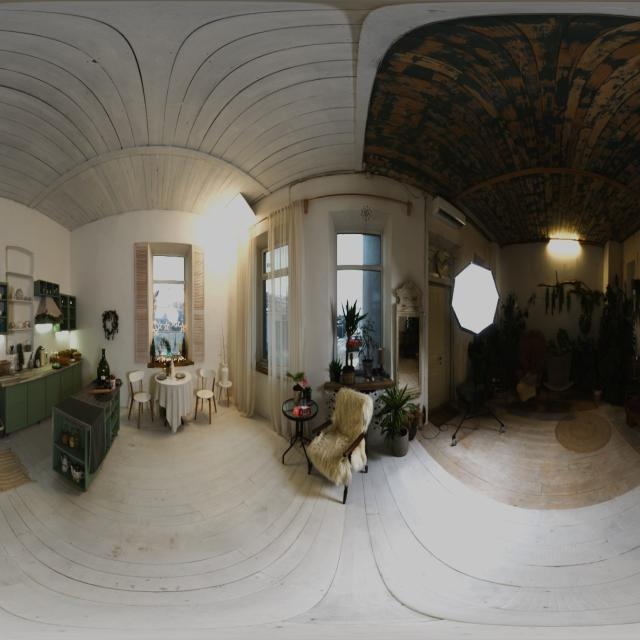mate bag: (291, 399, 314, 422)
